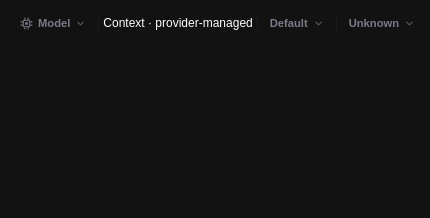
ComposerControls — pill labels reflect session state › shows the harness default as the selected effort when none was overridden
Click the button "Default": (297, 23) [262, 12, 332, 34]
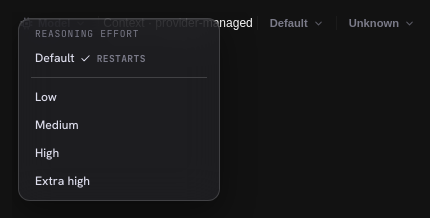
Now the text "Default" is shown, box [35, 50, 91, 66]
